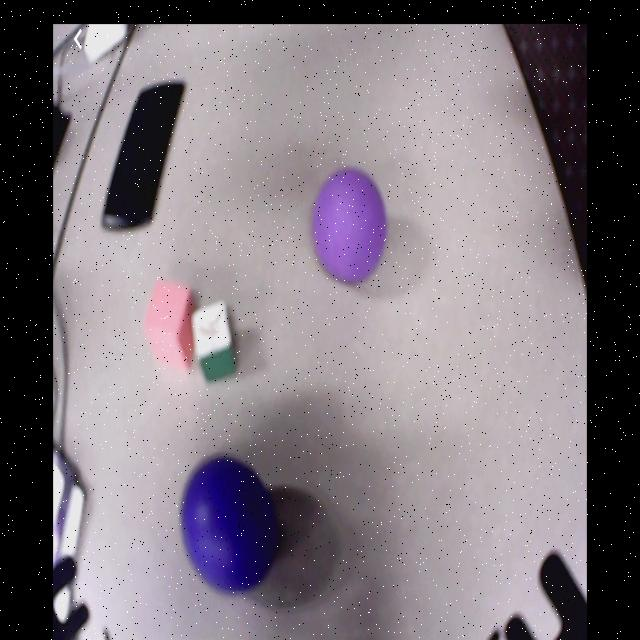ball: (184, 455, 280, 591), (316, 169, 387, 285)
